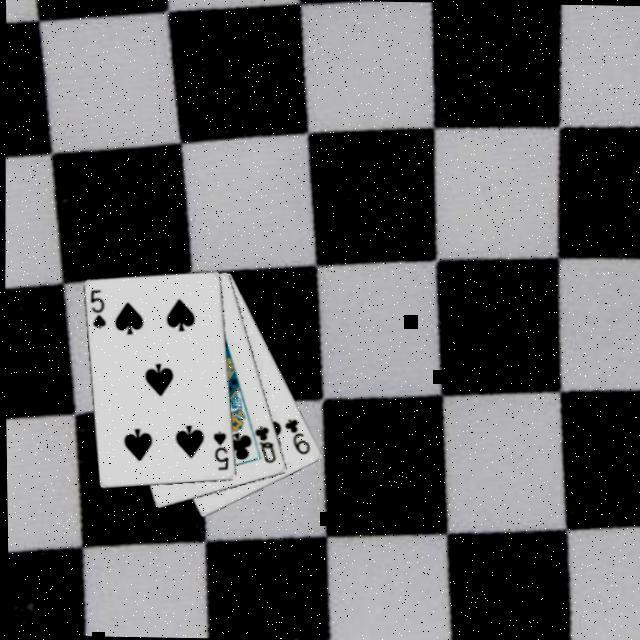5S: (86, 288, 110, 334), (210, 430, 232, 474)
9C: (280, 416, 314, 459)
QC: (252, 424, 280, 468)
